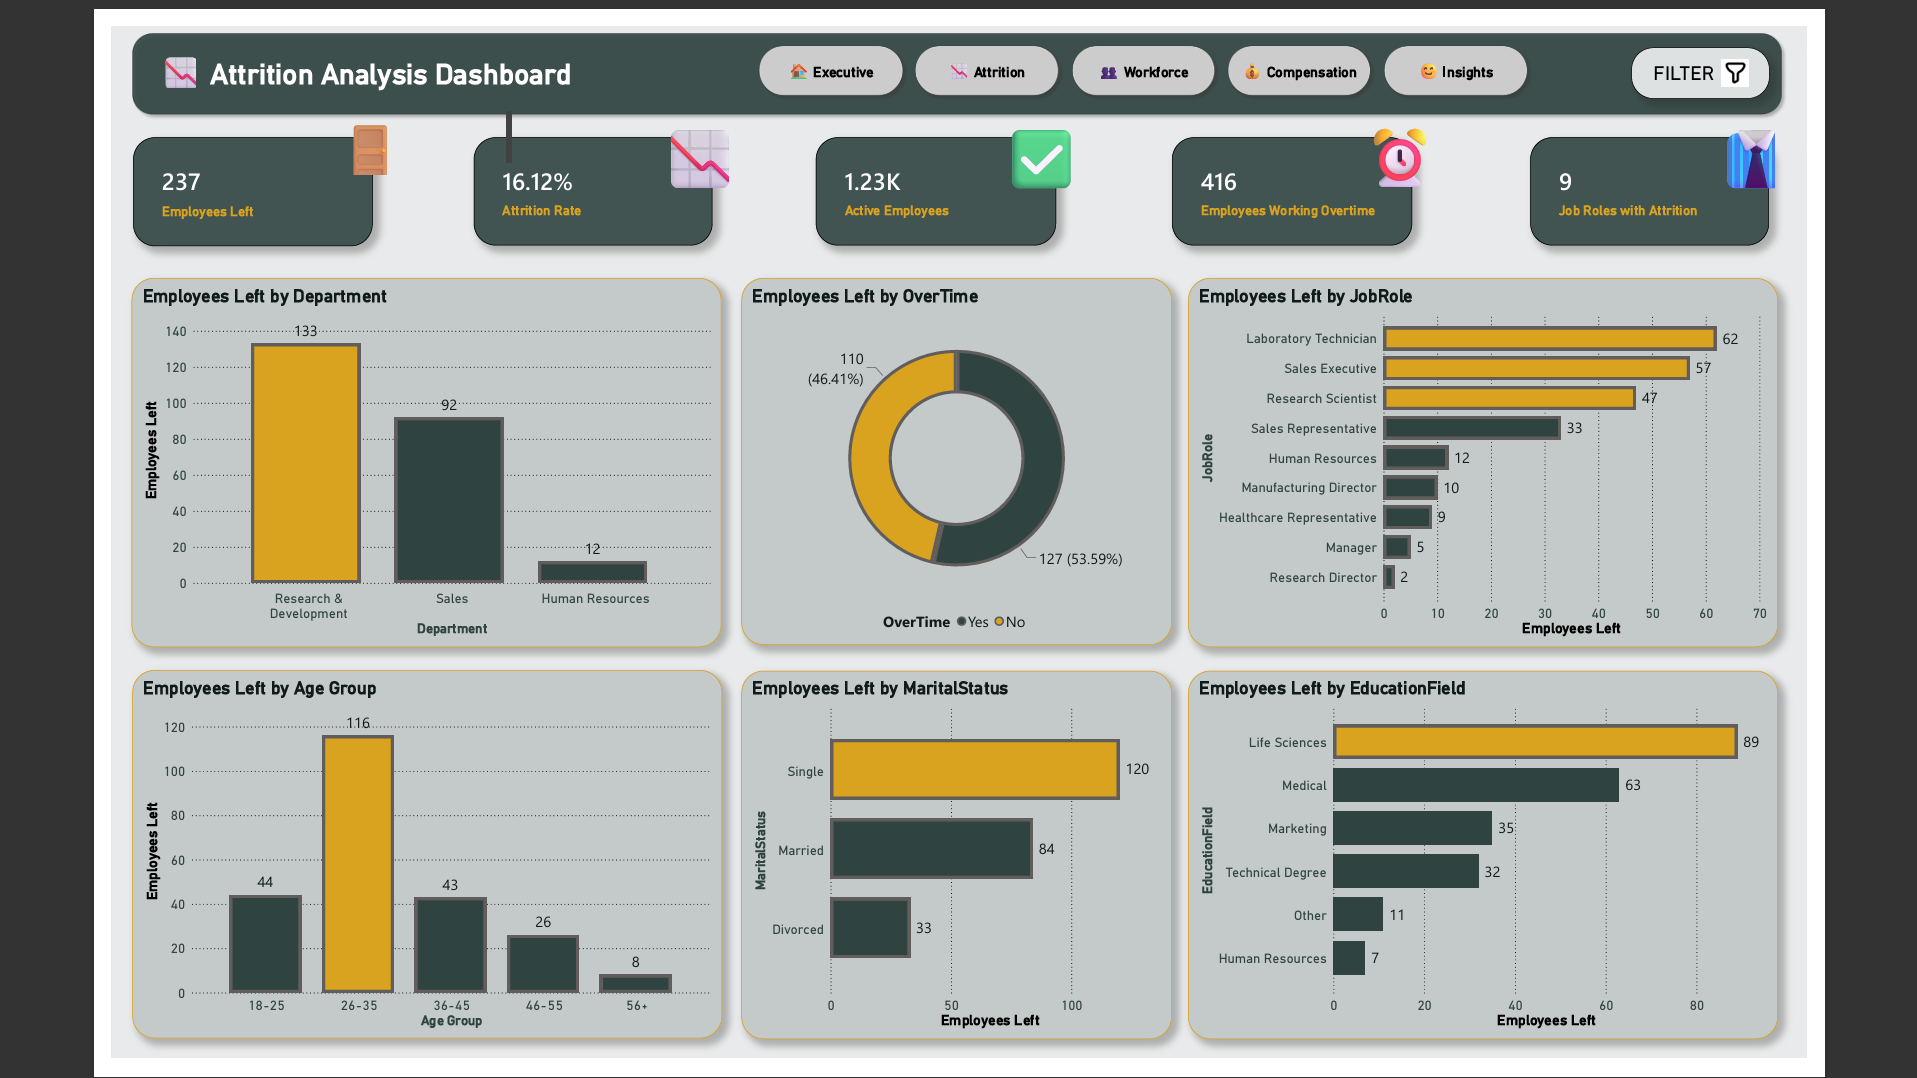

The dashboard page shown, as its layout file describes it:
{"tool":"powerbi","page":{"name":"Attrition Analysis","canvas":[2300,1400],"ordinal":1},"visuals":[{"type":"group","id":"g1","title":"Group 1","box":[19.4,0,2254.9,128.2],"z":0},{"type":"shape","box":[19.4,0,2254.9,128.2],"z":0,"group":"g1"},{"type":"actionButton","box":[2061.2,27.6,187.7,70.1],"z":0,"group":"g2"},{"type":"textbox","box":[290.7,109.7,257.7,95.7],"z":0,"group":"g3"},{"type":"actionButton","box":[868.7,17.2,213,85],"z":1000,"group":"g4"},{"type":"image","box":[2157.4,43.5,90.9,36.9],"z":1000,"group":"g2"},{"type":"textbox","box":[737.2,99.9,257.7,144.8],"z":1000,"group":"g3"},{"type":"cardVisual","fields":{"Data":["HR-Employee.Employees Left"]},"box":[29,150,325,147.6],"z":1000},{"type":"actionButton","box":[1081.2,17.2,211.9,85],"z":2000,"group":"g4"},{"type":"group","id":"g2","title":"Open","box":[2061.2,27.6,187.1,75],"z":2000,"group":"g1"},{"type":"textbox","box":[1201,99.9,267.5,139.9],"z":2000,"group":"g3"},{"type":"cardVisual","fields":{"Data":["HR-Employee.Attrition Rate"]},"box":[490.8,149.7,323.9,147.2],"z":2000},{"type":"actionButton","box":[1293.4,17.2,211.2,85],"z":3000,"group":"g4"},{"type":"textbox","box":[1685.3,99.9,257.7,144.8],"z":3000,"group":"g3"},{"type":"cardVisual","fields":{"Data":["HR-Employee.Active Employees"]},"box":[954.6,149.7,326.4,147.2],"z":3000},{"type":"actionButton","box":[1504.6,17.2,211.2,85],"z":4000,"group":"g4"},{"type":"textbox","box":[60.7,26.5,752.5,70.3],"z":4000,"group":"g1"},{"type":"textbox","box":[2170.3,99.9,90.8,179.1],"z":4000,"group":"g3"},{"type":"cardVisual","fields":{"Data":["HR-Employee.Employees Working Overtime"]},"box":[1438,149.7,326.4,147.2],"z":4000},{"type":"actionButton","box":[1716.8,17.2,211.9,85],"z":5000,"group":"g4"},{"type":"cardVisual","fields":{"Data":["HR-Employee.Job Roles with Attrition"]},"box":[1923.9,149.7,323.9,147.2],"z":5000},{"type":"group","id":"g3","title":"Group 2","box":[290.7,99.9,1970.4,179.1],"z":6000},{"type":"clusteredBarChart","fields":{"Category":["HR-Employee.EducationField"],"Y":["HR-Employee.Employees Left"]},"box":[1460.1,873.6,800,500.6],"z":7000},{"type":"clusteredColumnChart","fields":{"Category":["HR-Employee.Department"],"Y":["HR-Employee.Employees Left"]},"box":[27,341.1,800,500.6],"z":8000},{"type":"donutChart","fields":{"Category":["HR-Employee.OverTime"],"Y":["HR-Employee.Employees Left"]},"box":[854,341.1,584,498.2],"z":9000},{"type":"clusteredColumnChart","fields":{"Category":["HR-Employee.Age Group"],"Y":["HR-Employee.Employees Left"]},"box":[27.5,872.5,800,500],"z":10000},{"type":"clusteredBarChart","fields":{"Category":["HR-Employee.JobRole"],"Y":["HR-Employee.Employees Left"]},"box":[1460.1,341.1,800,500.6],"z":11000},{"type":"clusteredBarChart","fields":{"Category":["HR-Employee.MaritalStatus"],"Y":["HR-Employee.Employees Left"]},"box":[854,873.6,584,500.6],"z":12000},{"type":"group","id":"g4","title":"Group 1","box":[868.7,17.2,1060.1,85.9],"z":14000}]}

Visuals, with their boxes on the page's 2300x1400 design canvas (x1, y1, x2, y2). These are canvas units, not pixel positions in the 1917x1078 screenshot, which may show the page scaled, cropped or inside an application window:
"Group 1" group: pyautogui.locateOnScreen(19, 0, 2274, 128)
shape: pyautogui.locateOnScreen(19, 0, 2274, 128)
actionButton: pyautogui.locateOnScreen(2061, 28, 2249, 98)
textbox: pyautogui.locateOnScreen(291, 110, 548, 205)
actionButton: pyautogui.locateOnScreen(869, 17, 1082, 102)
image: pyautogui.locateOnScreen(2157, 44, 2248, 80)
textbox: pyautogui.locateOnScreen(737, 100, 995, 245)
cardVisual - HR-Employee.Employees Left: pyautogui.locateOnScreen(29, 150, 354, 298)
actionButton: pyautogui.locateOnScreen(1081, 17, 1293, 102)
"Open" group: pyautogui.locateOnScreen(2061, 28, 2248, 103)
textbox: pyautogui.locateOnScreen(1201, 100, 1468, 240)
cardVisual - HR-Employee.Attrition Rate: pyautogui.locateOnScreen(491, 150, 815, 297)
actionButton: pyautogui.locateOnScreen(1293, 17, 1505, 102)
textbox: pyautogui.locateOnScreen(1685, 100, 1943, 245)
cardVisual - HR-Employee.Active Employees: pyautogui.locateOnScreen(955, 150, 1281, 297)
actionButton: pyautogui.locateOnScreen(1505, 17, 1716, 102)
textbox: pyautogui.locateOnScreen(61, 26, 813, 97)
textbox: pyautogui.locateOnScreen(2170, 100, 2261, 279)
cardVisual - HR-Employee.Employees Working Overtime: pyautogui.locateOnScreen(1438, 150, 1764, 297)
actionButton: pyautogui.locateOnScreen(1717, 17, 1929, 102)
cardVisual - HR-Employee.Job Roles with Attrition: pyautogui.locateOnScreen(1924, 150, 2248, 297)
"Group 2" group: pyautogui.locateOnScreen(291, 100, 2261, 279)
clusteredBarChart - HR-Employee.EducationField x HR-Employee.Employees Left: pyautogui.locateOnScreen(1460, 874, 2260, 1374)
clusteredColumnChart - HR-Employee.Department x HR-Employee.Employees Left: pyautogui.locateOnScreen(27, 341, 827, 842)
donutChart - HR-Employee.OverTime x HR-Employee.Employees Left: pyautogui.locateOnScreen(854, 341, 1438, 839)
clusteredColumnChart - HR-Employee.Age Group x HR-Employee.Employees Left: pyautogui.locateOnScreen(28, 872, 828, 1372)
clusteredBarChart - HR-Employee.JobRole x HR-Employee.Employees Left: pyautogui.locateOnScreen(1460, 341, 2260, 842)
clusteredBarChart - HR-Employee.MaritalStatus x HR-Employee.Employees Left: pyautogui.locateOnScreen(854, 874, 1438, 1374)
"Group 1" group: pyautogui.locateOnScreen(869, 17, 1929, 103)
